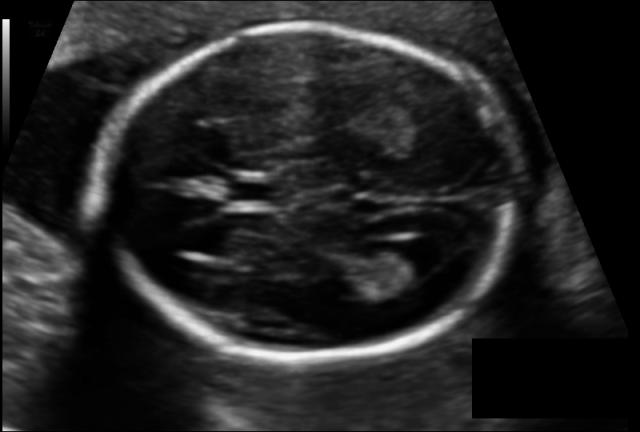CHOROID_PLEXUS: (324, 247, 442, 315)
CSP: (153, 158, 245, 224)
MIDLINE_FALX: (135, 145, 549, 238)
